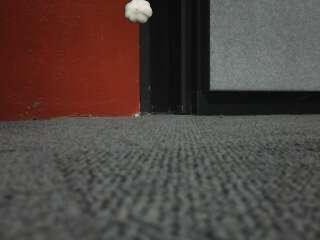Garlic: (126, 0, 152, 24)
